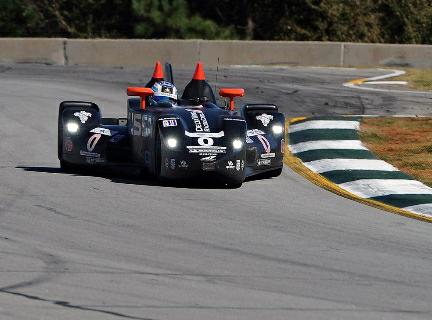日产-DeltaWing: (49, 63, 293, 187)
